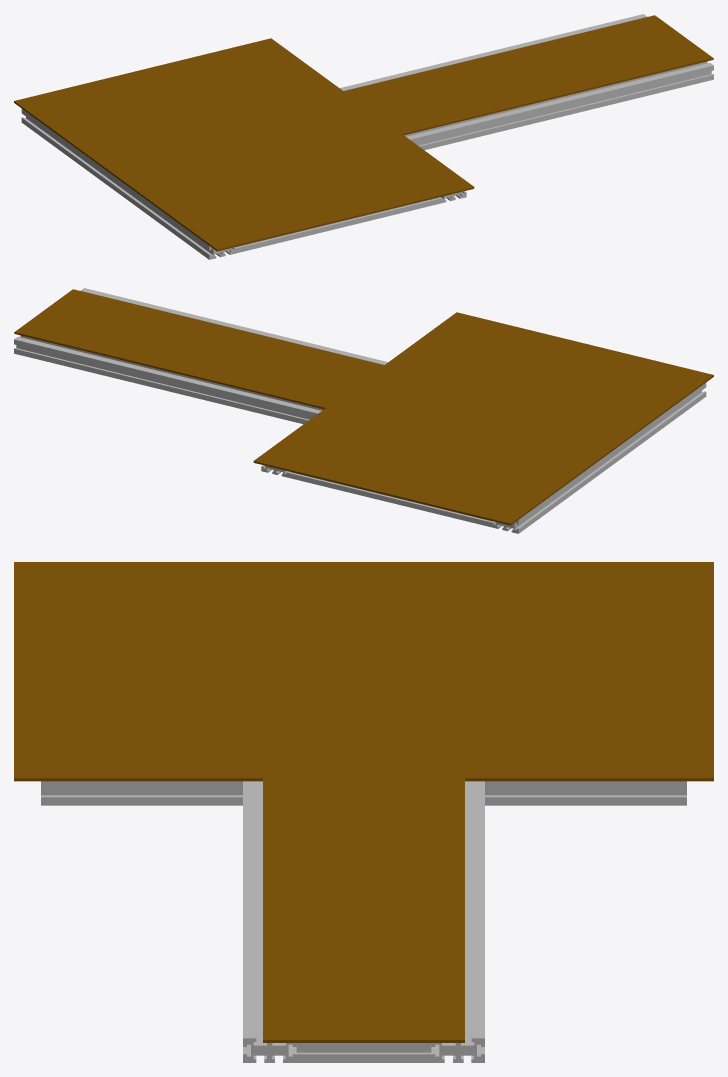
The model's file is Base Design 2.obj.
3 views of the same model, one above another, from view 1: azimuth 30°, elevation 25°; view 2: azimuth 150°, elevation 25°; view 3: azimuth 270°, elevation 25° (orthographic). The views are drawn at different scales.
Visible parts, largest first — view 1: Wood Base 1 v7, Wood Base v4, 1 meter 2 Layer T-slot v6, 2 ft. 2 Layer T-slot v5, 8.25 in 2 Layer T-slot v8_1, 1 meter 2 Layer T-slot v6_1; view 2: Wood Base 1 v7, Wood Base v4, 1 meter 2 Layer T-slot v6_1, 2 ft. 2 Layer T-slot v5, 8.25 in 2 Layer T-slot v8, 1 meter 2 Layer T-slot v6; view 3: Wood Base 1 v7, Wood Base v4, 1 meter 2 Layer T-slot v6, 1 meter 2 Layer T-slot v6_1, 7.5 in 2 Layer T-slot v10, 7.5 in 2 Layer T-slot v10_1, 5 in 3 Layer T-slot v5_1.
Part boxes in pixels (x1,y1,x2,y2): Wood Base 1 v7: (14, 38, 474, 251); Wood Base v4: (344, 15, 713, 135); 1 meter 2 Layer T-slot v6: (404, 61, 713, 150); 2 ft. 2 Layer T-slot v5: (21, 109, 236, 259); 8.25 in 2 Layer T-slot v8_1: (235, 198, 439, 253); 1 meter 2 Layer T-slot v6_1: (340, 14, 647, 90); Wood Base 1 v7: (253, 312, 713, 525); Wood Base v4: (14, 289, 383, 409); 1 meter 2 Layer T-slot v6_1: (14, 335, 323, 424); 2 ft. 2 Layer T-slot v5: (491, 383, 706, 533); 8.25 in 2 Layer T-slot v8: (288, 472, 492, 527); 1 meter 2 Layer T-slot v6: (80, 288, 387, 364); Wood Base 1 v7: (14, 562, 713, 781); Wood Base v4: (263, 778, 464, 1042); 1 meter 2 Layer T-slot v6: (243, 781, 296, 1062); 1 meter 2 Layer T-slot v6_1: (431, 781, 484, 1062); 7.5 in 2 Layer T-slot v10: (41, 781, 242, 805); 7.5 in 2 Layer T-slot v10_1: (485, 781, 686, 805); 5 in 3 Layer T-slot v5_1: (296, 1043, 431, 1062).
Bounding box in the file's own units: 1067 × 28.57 × 660.
